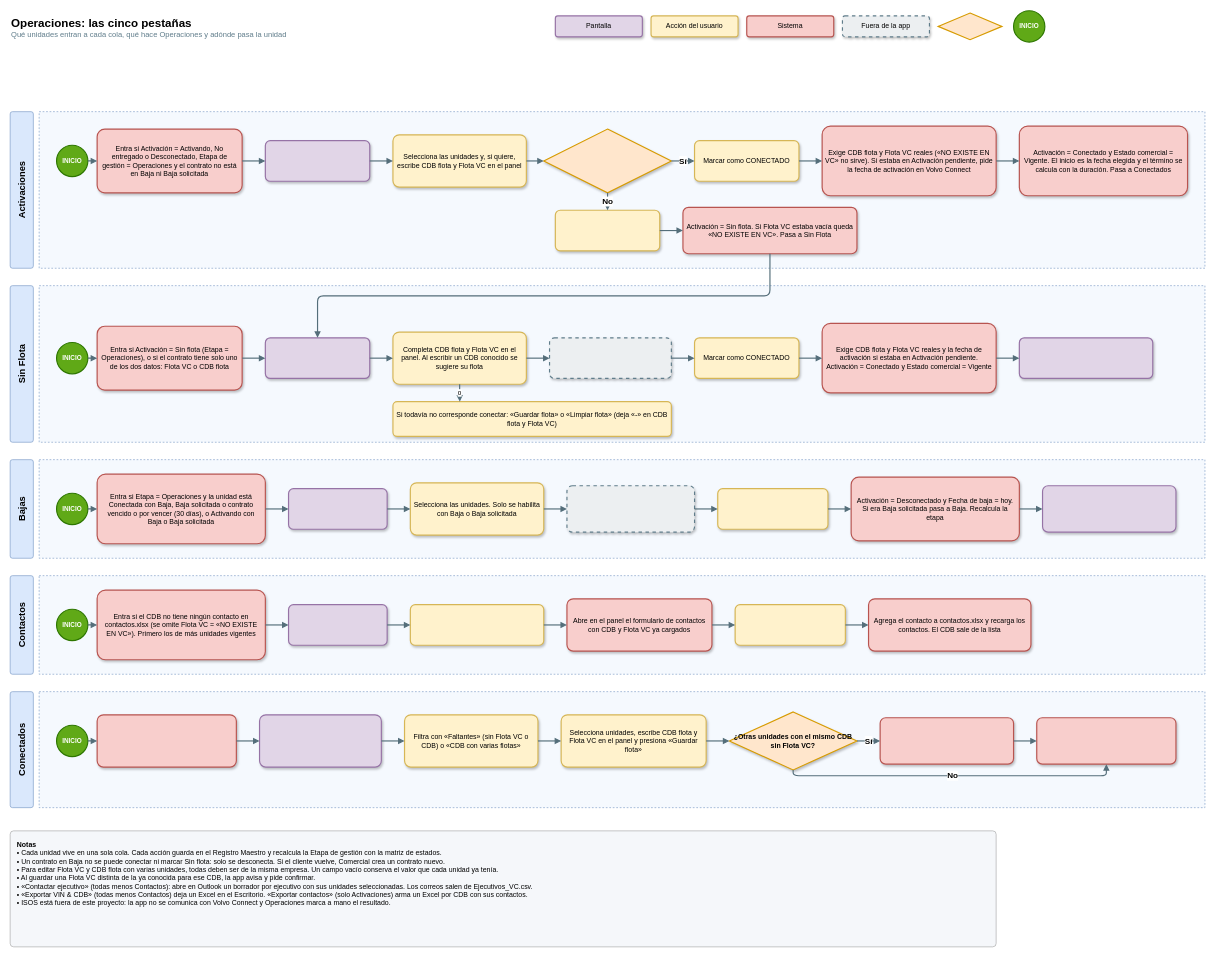
Image size: 1215x957. Some labels were removed from this diagram. The centre of each missing label's shape, as x and y in pixels:
"Comercial › Recuperar clientes" belongs at (x=1109, y=509).
"Completa y guarda el contacto" belongs at (x=790, y=625).
"Decisión" belongs at (x=969, y=26).
"Desconecta la unidad en Volvo Connect" belongs at (x=631, y=509).
"Entra si Estado comercial = Vigente y Activación = Conectado" belongs at (x=167, y=741).
"Guarda CDB flota y Flota VC. No cambia ningún estado" belongs at (x=1107, y=741).
"Hace clic en un CDB (una fila a la vez)" belongs at (x=477, y=625).
"La unidad aparece en Volvo Connect" belongs at (x=610, y=359).
"Marcar como DESCONECTADO" belongs at (x=773, y=509).
"Marcar como SIN FLOTA" belongs at (x=608, y=231).
"Operaciones › Activaciones" belongs at (x=318, y=161).
"Operaciones › Bajas" belongs at (x=338, y=509).
"Operaciones › Conectados" belongs at (x=1086, y=359).
"Operaciones › Conectados (contador rojo: sin Flota VC o CDB)" belongs at (x=320, y=741).
"Operaciones › Contactos" belongs at (x=338, y=625).
"Operaciones › Sin Flota" belongs at (x=318, y=359).
"Pregunta si completar también esa Flota VC en las demás unidades" belongs at (x=947, y=741).
"¿La unidad ya aparece en Volvo Connect? (se revisa en ISOS)" belongs at (x=608, y=161).
